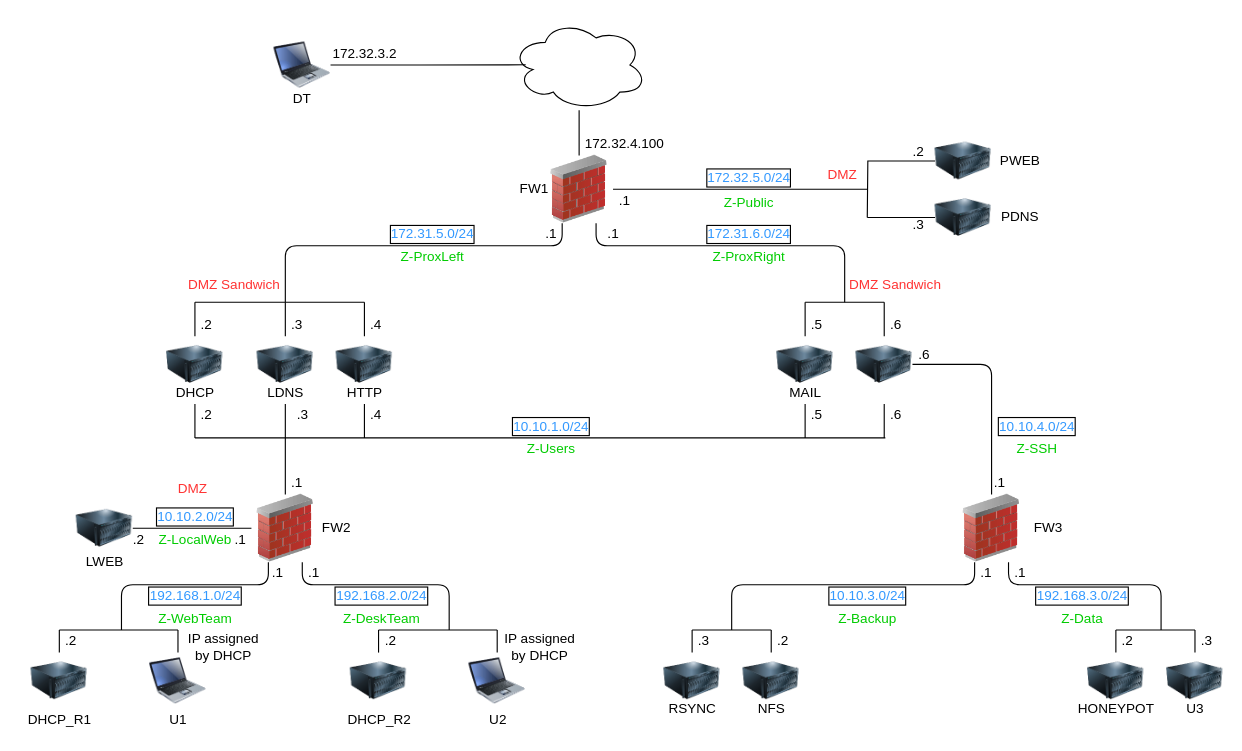
This 1242x751 diagram has some shape labels left out. Here are the shapes that lost their labels. From the top down, the centre of each, then its label:
At point 578,64: "Internet".
At point 883,364: "SSH".
